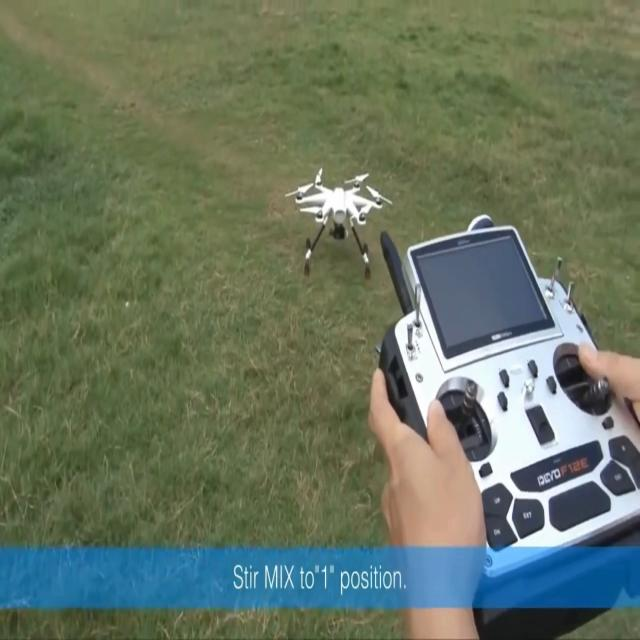drone: (284, 166, 393, 280)
